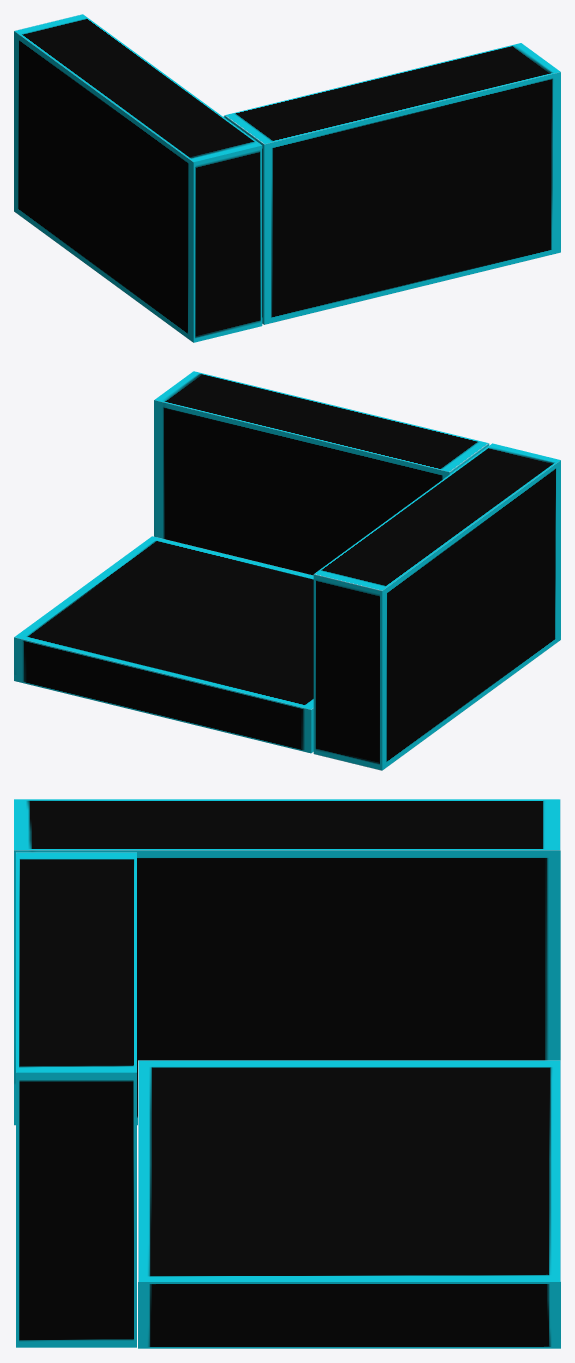
Rendered from stairs_corner_top.fbx.
3 views of the same model, one above another, from view 1: azimuth 30°, elevation 25°; view 2: azimuth 150°, elevation 25°; view 3: azimuth 270°, elevation 25° (orthographic). The views are drawn at different scales.
Visible parts, largest first — view 1: stairsCorner; view 2: stairsCorner; view 3: stairsCorner.
Boxes of the visible parts, bbox=[...] form: stairsCorner: bbox=[14, 14, 560, 342]; stairsCorner: bbox=[14, 371, 560, 770]; stairsCorner: bbox=[14, 799, 560, 1348].
Bounding box in the file's own units: 176 × 82.3 × 148.
